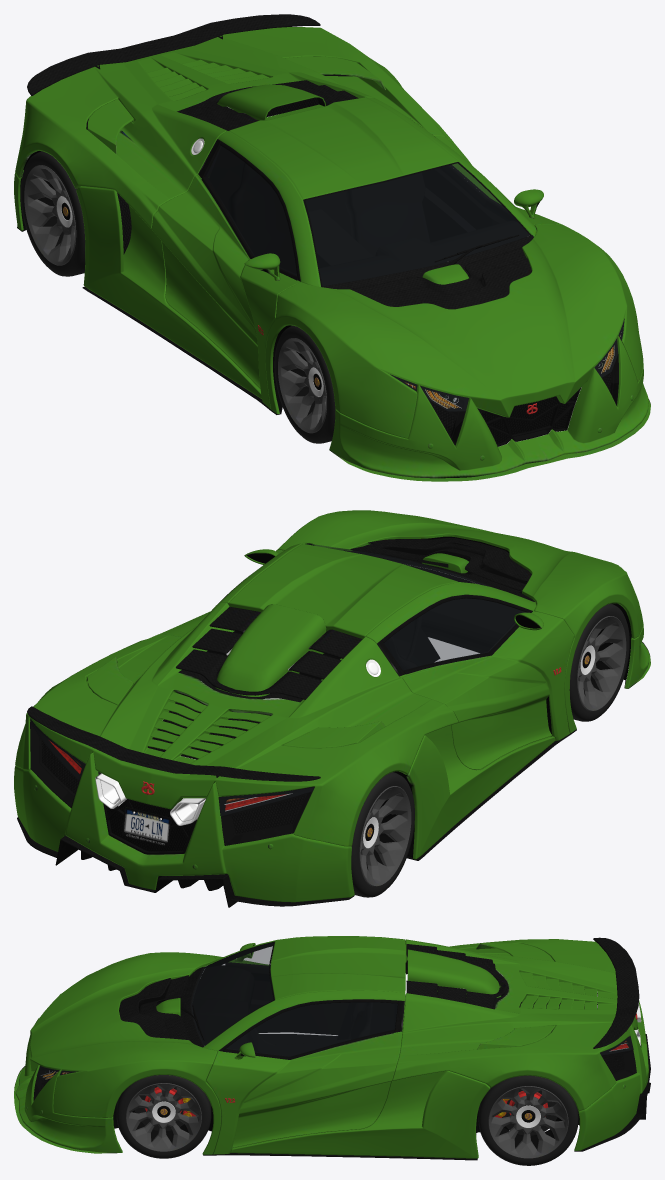
File: v12-goblin.glb
3 renders of one model, top to bottom at view 1: azimuth 30°, elevation 25°; view 2: azimuth 150°, elevation 25°; view 3: azimuth 270°, elevation 25°, orthographic. The views are drawn at different scales.
Parts seen in each view (by area): view 1: body, glass, trim, interior, wheel_rr_rim, wheel_fr_rim, wheel_rr_tyre, headlight, wheel_fr_tyre; view 2: body, trim, glass, taillight, interior, wheel_rr_rim, wheel_fr_rim, wheel_rr_tyre, wheel_fr_tyre, plate; view 3: body, trim, glass, interior, wheel_rl_rim, wheel_fl_rim, wheel_rl_tyre, wheel_fl_tyre, taillight, headlight.
Boxes of the visible parts, bbox=[...] form: body: bbox=[14, 27, 650, 481]; glass: bbox=[206, 146, 624, 411]; trim: bbox=[17, 14, 650, 478]; interior: bbox=[207, 97, 528, 286]; wheel_rr_rim: bbox=[24, 165, 76, 265]; wheel_fr_rim: bbox=[278, 338, 326, 433]; wheel_rr_tyre: bbox=[20, 151, 85, 276]; headlight: bbox=[393, 321, 623, 427]; wheel_fr_tyre: bbox=[274, 325, 335, 443]; body: bbox=[14, 510, 650, 902]; trim: bbox=[17, 536, 650, 907]; glass: bbox=[29, 543, 525, 815]; taillight: bbox=[30, 719, 313, 843]; interior: bbox=[307, 543, 523, 670]; wheel_rr_rim: bbox=[359, 786, 411, 886]; wheel_fr_rim: bbox=[577, 616, 626, 711]; wheel_rr_tyre: bbox=[351, 772, 414, 897]; wheel_fr_tyre: bbox=[569, 603, 629, 721]; plate: bbox=[124, 808, 169, 846]; body: bbox=[14, 936, 648, 1158]; trim: bbox=[14, 937, 650, 1160]; glass: bbox=[36, 942, 632, 1080]; interior: bbox=[192, 942, 397, 1123]; wheel_rl_rim: bbox=[488, 1086, 568, 1158]; wheel_fl_rim: bbox=[126, 1083, 201, 1151]; wheel_rl_tyre: bbox=[478, 1075, 578, 1165]; wheel_fl_tyre: bbox=[116, 1075, 211, 1158]; taillight: bbox=[600, 1036, 636, 1080]; headlight: bbox=[34, 1066, 75, 1090].
Size of the model in its own units: 2.27 by 1.21 by 4.79.
10 materials, 8 textured.
